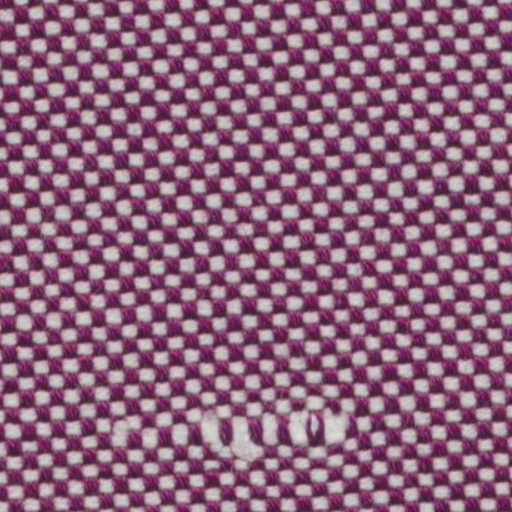DaiSha: (89, 391, 372, 470)
